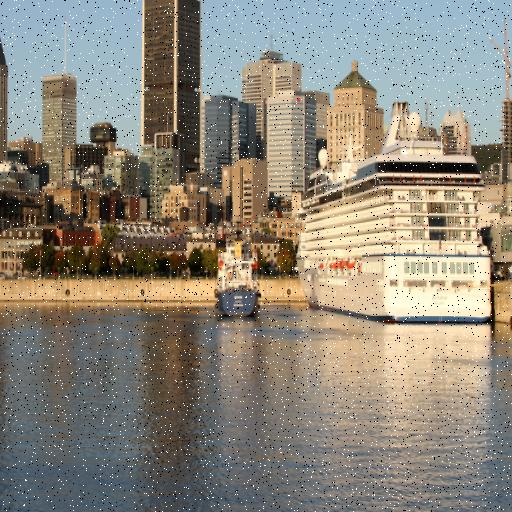cruises: (293, 99, 494, 333)
